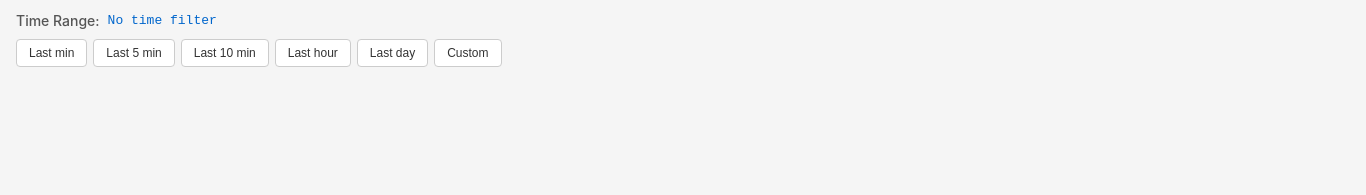
TimeFilter › custom filter › shows custom inputs when Custom is clicked
This screenshot has width=1366, height=195.
Click the button "Custom": (468, 53) x1=434 y1=39 x2=502 y2=67
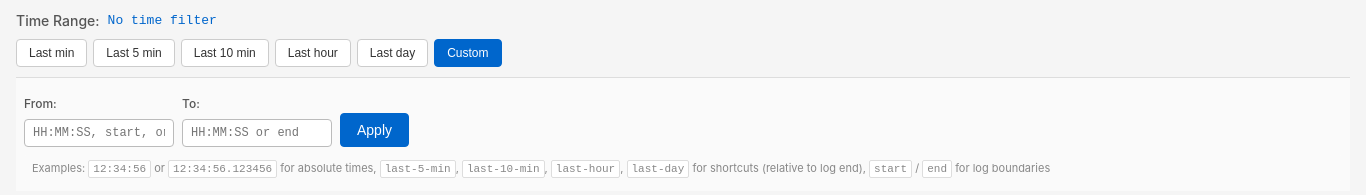
Expected: the field labelled "From:" is shown, x1=24 y1=119 x2=174 y2=147
Expected: the field labelled "To:" is shown, x1=182 y1=119 x2=332 y2=147
